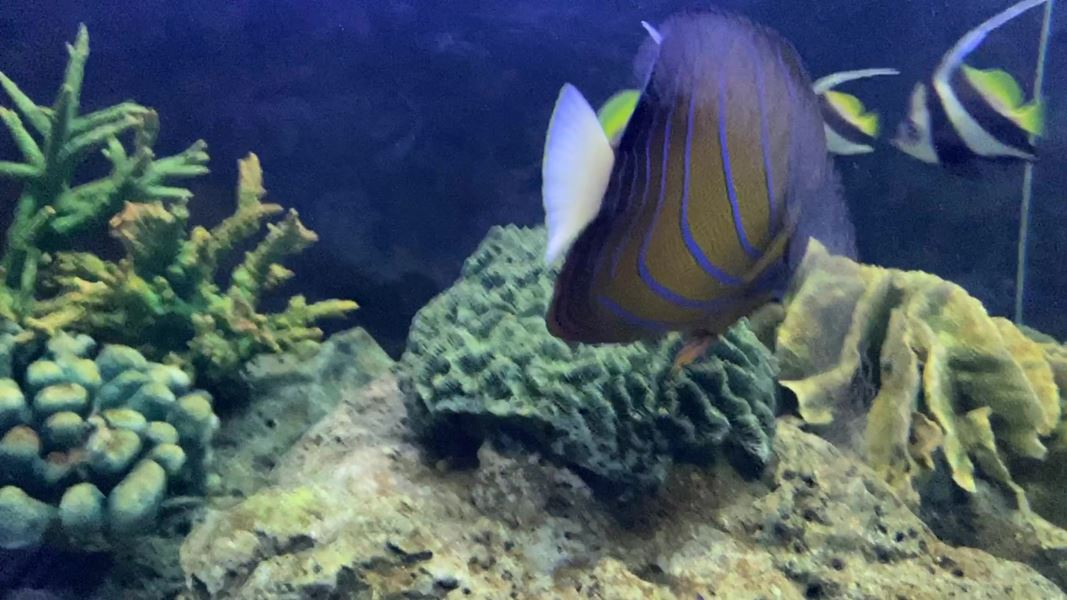Blue ring angelfish: (525, 13, 838, 387)
